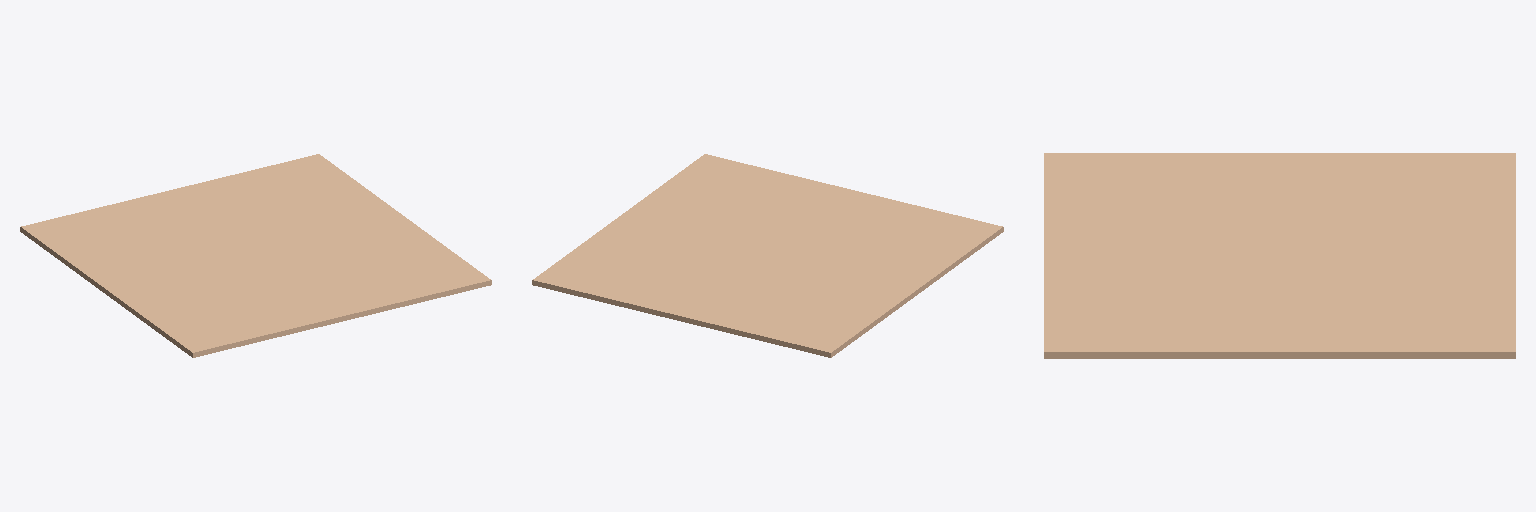
The robot description file, URDF, robot "room_floor":
<?xml version="1.0" ?>
<robot name="room_floor">
  <link name="base_link">
    <visual>
      <origin xyz="0 0 -0.05" rpy="0 0 0" />
      <geometry>
        <box size="6 6 0.1" />
      </geometry>
      <material name="desert sand">
        <color rgba="0.9297 0.7930 0.6758 0" />
      </material>
    </visual>
    <collision>
      <origin xyz="0 0 -0.05" rpy="0 0 0" />
      <geometry>
        <box size="6 6 0.1" />
      </geometry>
    </collision>
  </link>
</robot>

--- What the picture shows (computed from the rendered views, not written in the file) ---
The picture shows the robot from 3 angles, left to right: view 1: azimuth 30°, elevation 25°; view 2: azimuth 150°, elevation 25°; view 3: azimuth 270°, elevation 25°; orthographic projection.
Model room_floor with 1 links and 0 joints (none), rooted at base_link, posed every joint at zero.
Links seen in each view (by area): view 1: base_link; view 2: base_link; view 3: base_link.
Link boxes in pixels (left/top/right/bottom): base_link: left=20, top=154, right=491, bottom=357; base_link: left=532, top=154, right=1003, bottom=357; base_link: left=1044, top=153, right=1515, bottom=358.
Size in the robot's own frame: 6 by 6 by 0.1 metres.
Geometry: primitives only (box / cylinder / sphere), no mesh files.